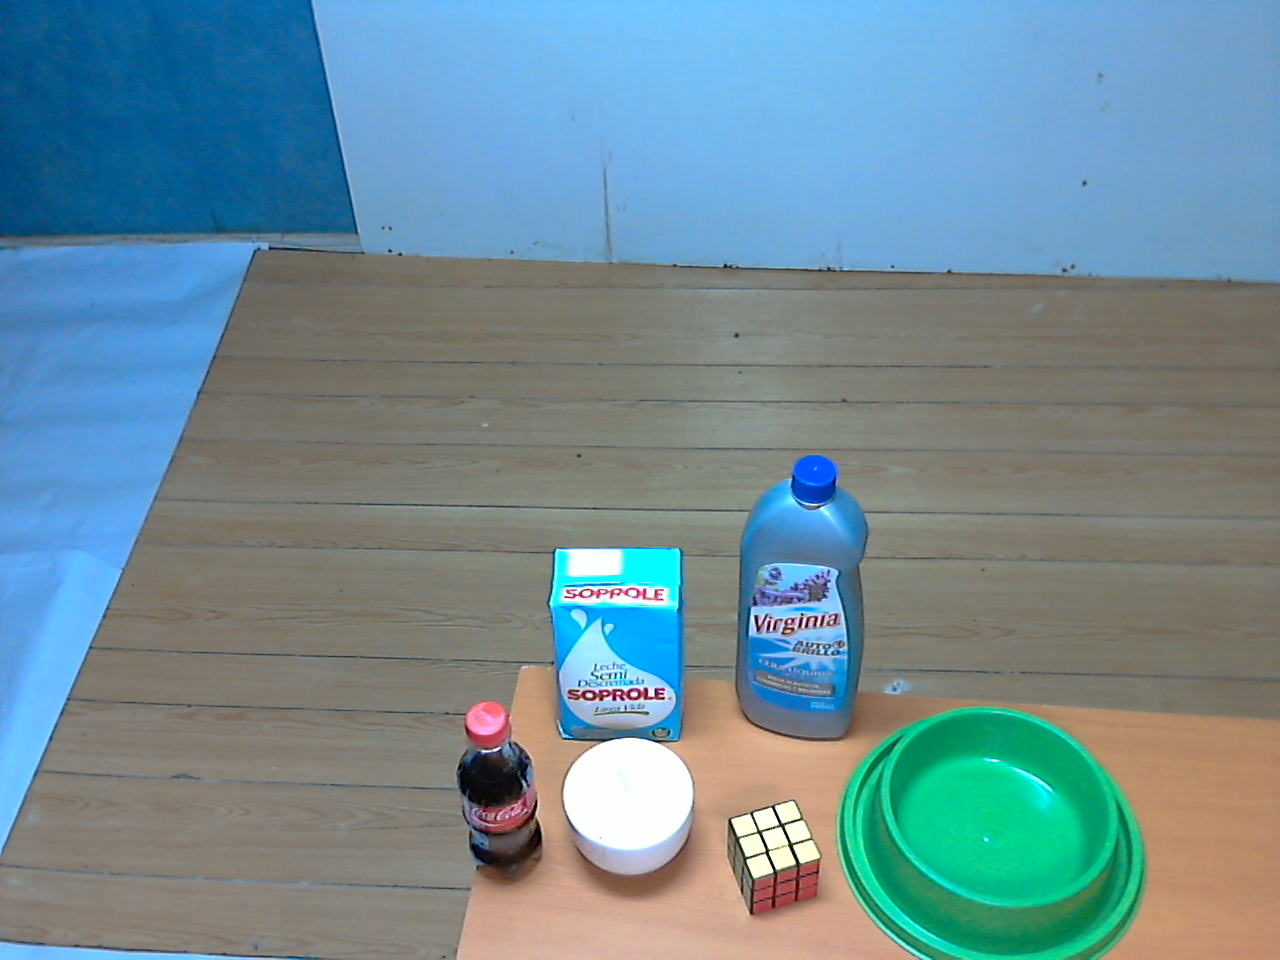azucarero: (555, 728, 705, 892)
cera: (732, 450, 871, 751)
coca: (441, 698, 552, 898)
cubix: (717, 794, 833, 922)
leche: (535, 542, 698, 745)
platoperro: (826, 695, 1156, 960)
